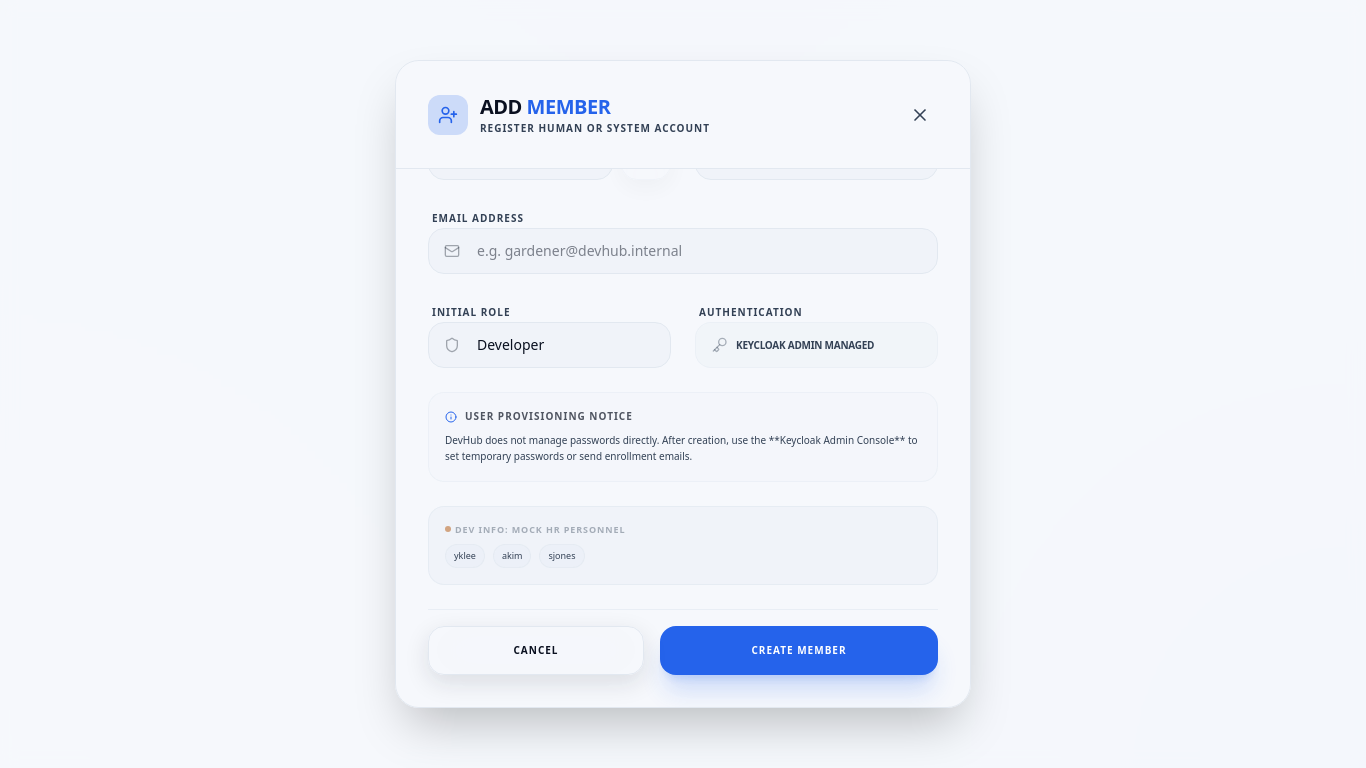
Test: UserCreationModal › populates user_id when mock HR personnel button is clicked
The width and height of the screenshot is (1366, 768).
(page scrolled)
Click the button "akim" at (512, 556), box [493,544,532,568]
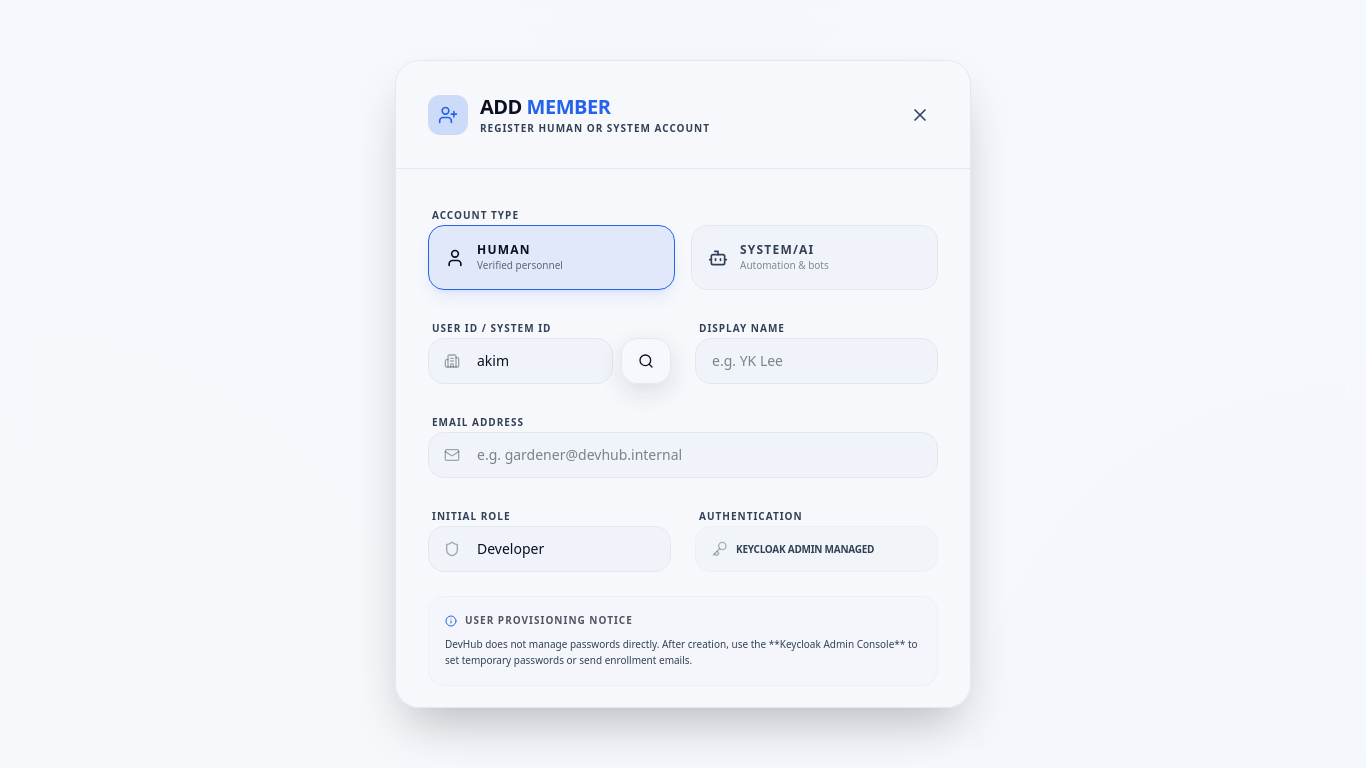
Result: the field with placeholder "e.g. yklee or bot-gardener" holds "akim" at [428,338,613,384]
